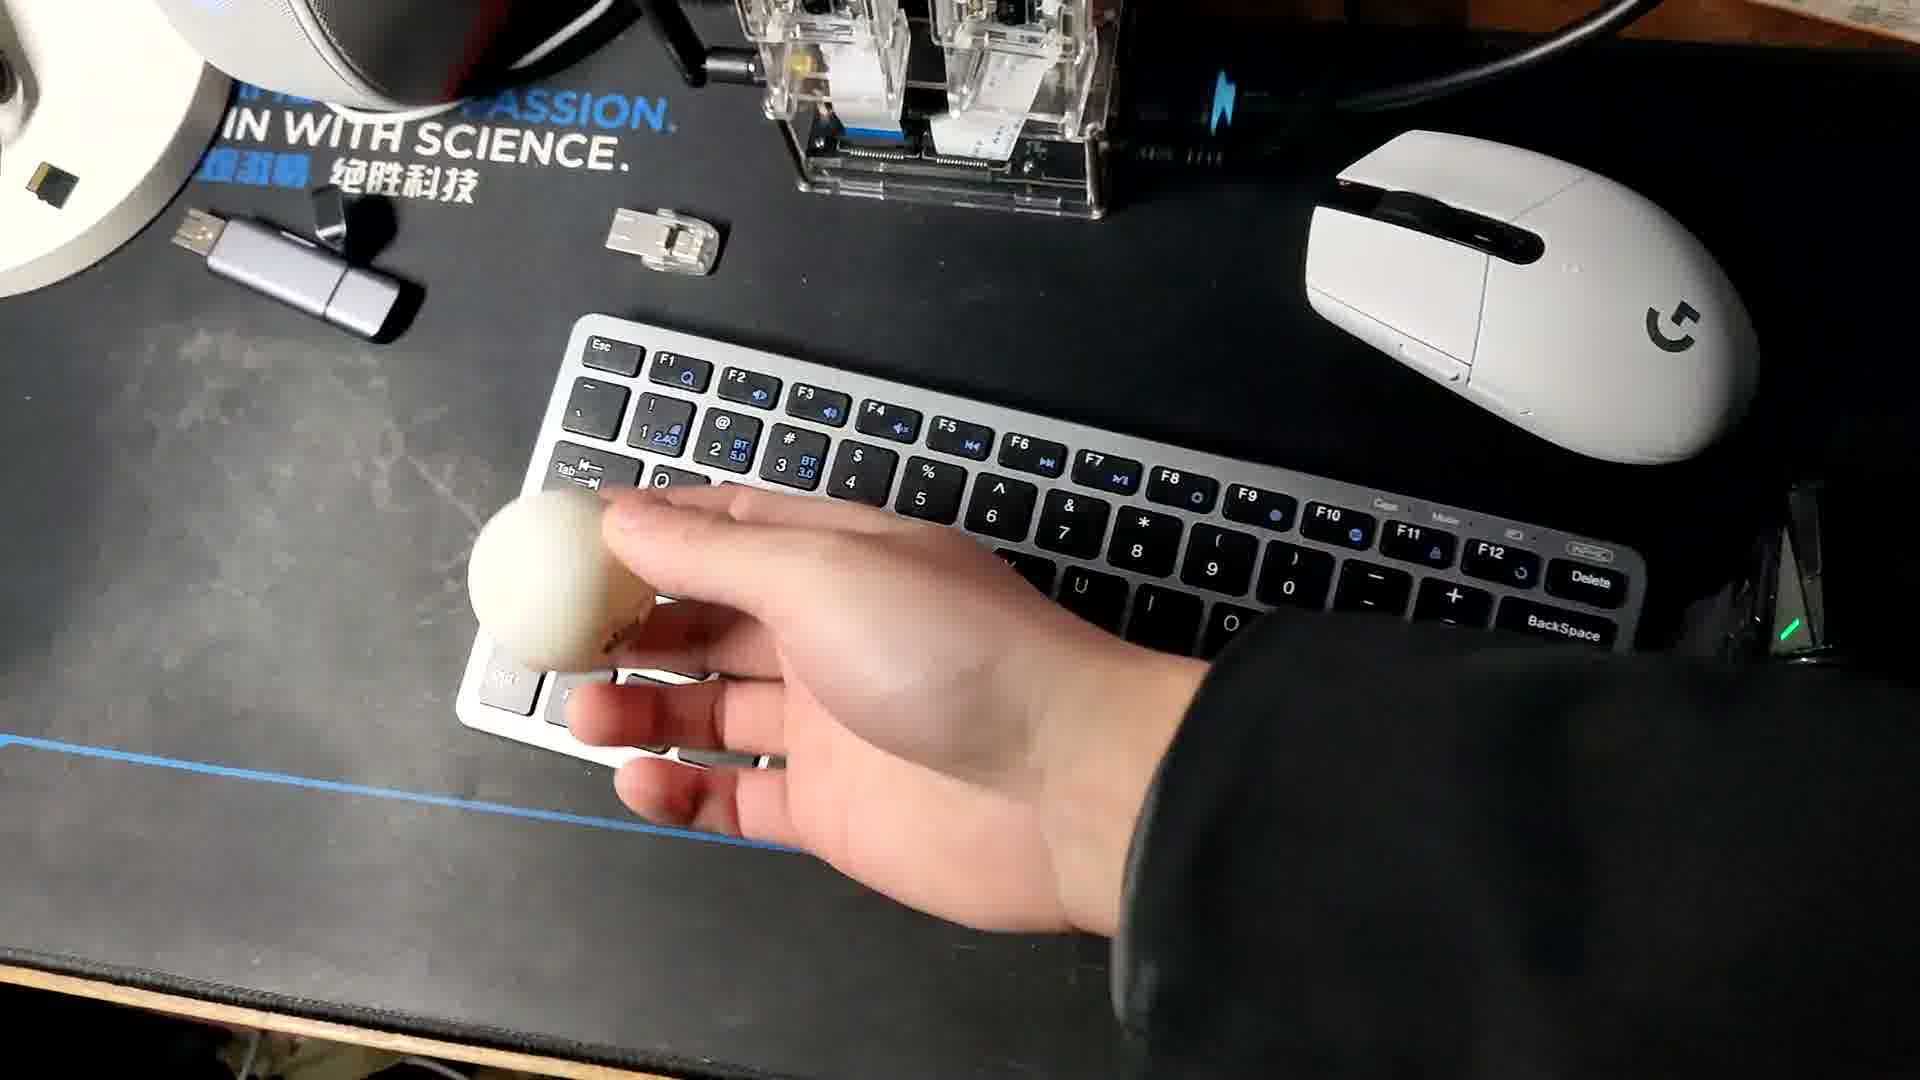Ball: (467, 491, 644, 673)
